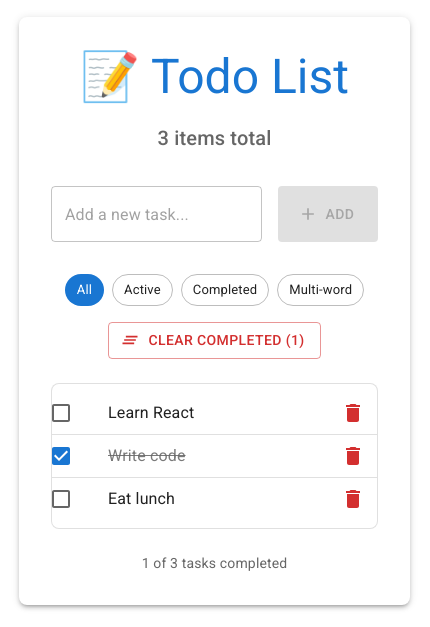
Test: ClunkyTodoList Component › Task Interactions › removes task when delete button is clicked
This screenshot has width=430, height=627.
Click the button named "delete" next to "Learn React" at (353, 413), box [333,393,373,433]
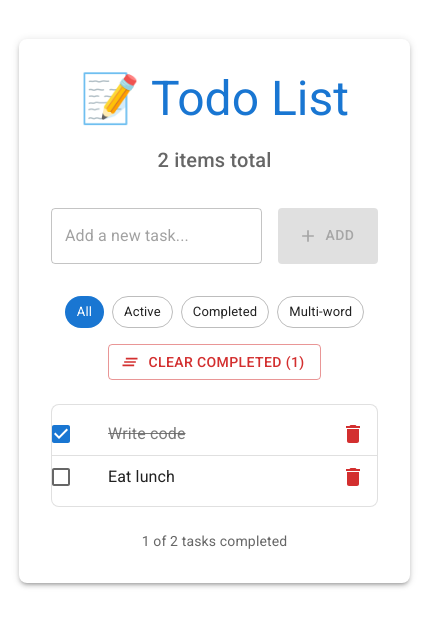
Check: the text "Learn React" is gone
Check: the heading "2 items total" is shown, box [158,148,271,172]
